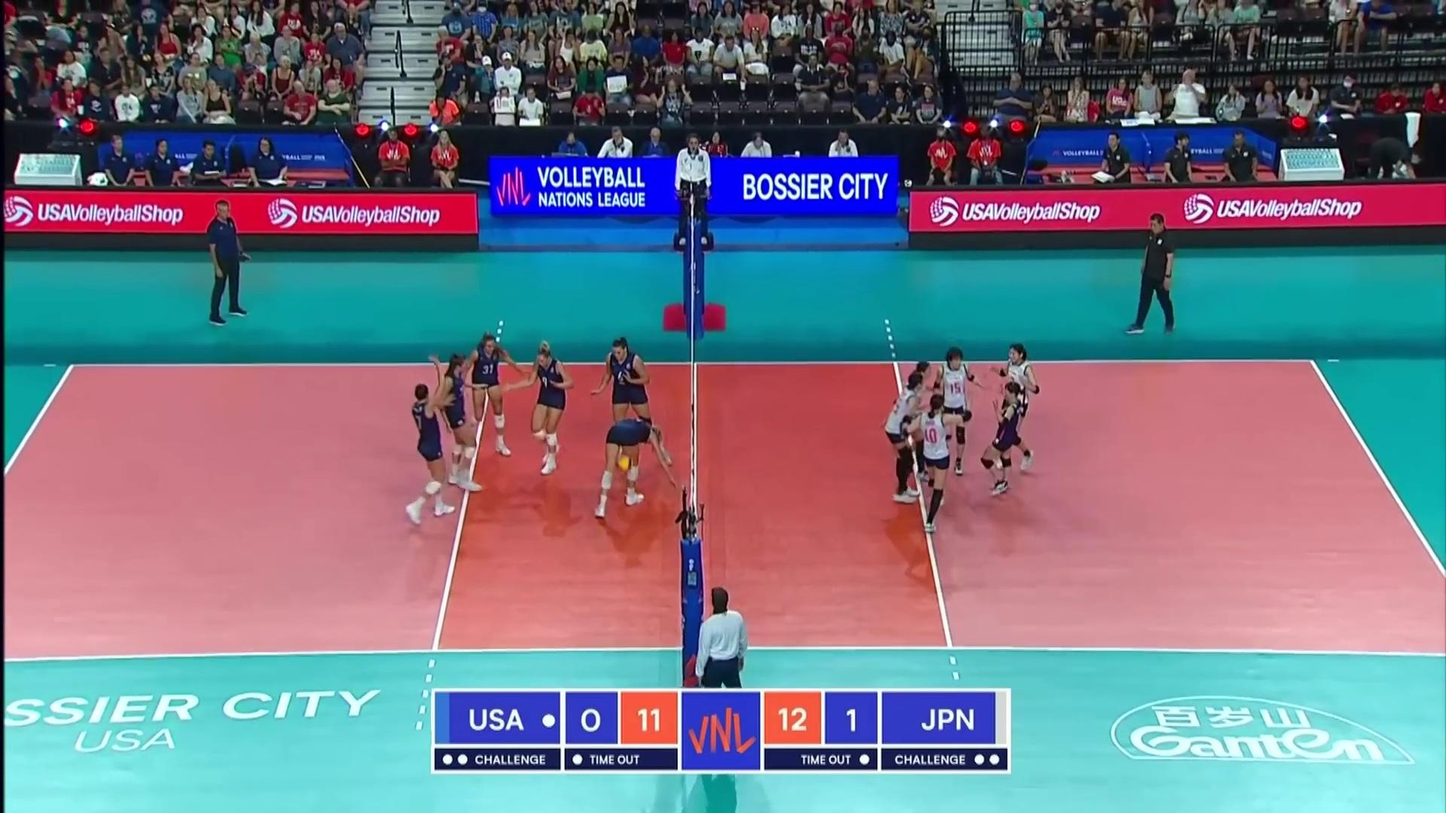player: (596, 338, 668, 464), (402, 378, 456, 526), (597, 421, 676, 519), (516, 344, 574, 468), (928, 348, 984, 474), (435, 351, 485, 492), (461, 336, 520, 455), (915, 393, 963, 530), (999, 343, 1044, 477), (880, 373, 926, 500), (984, 380, 1022, 498), (904, 359, 936, 481)
refree: (694, 585, 750, 691), (674, 134, 712, 241)
